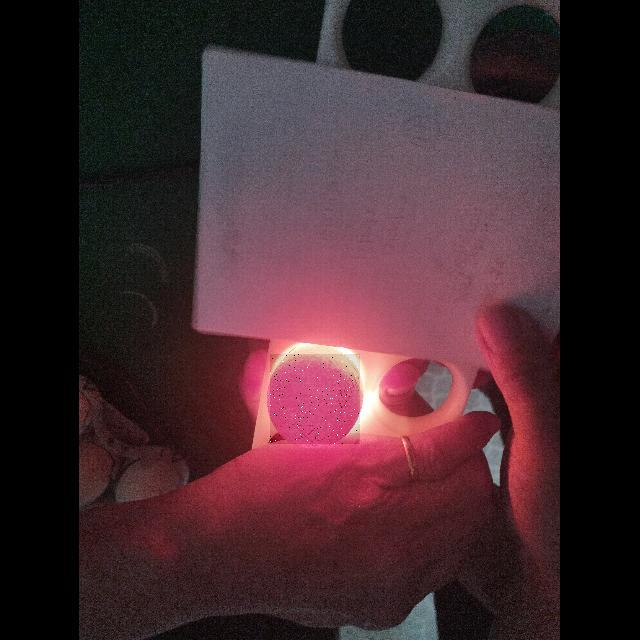Infertile: (270, 354, 360, 444)
